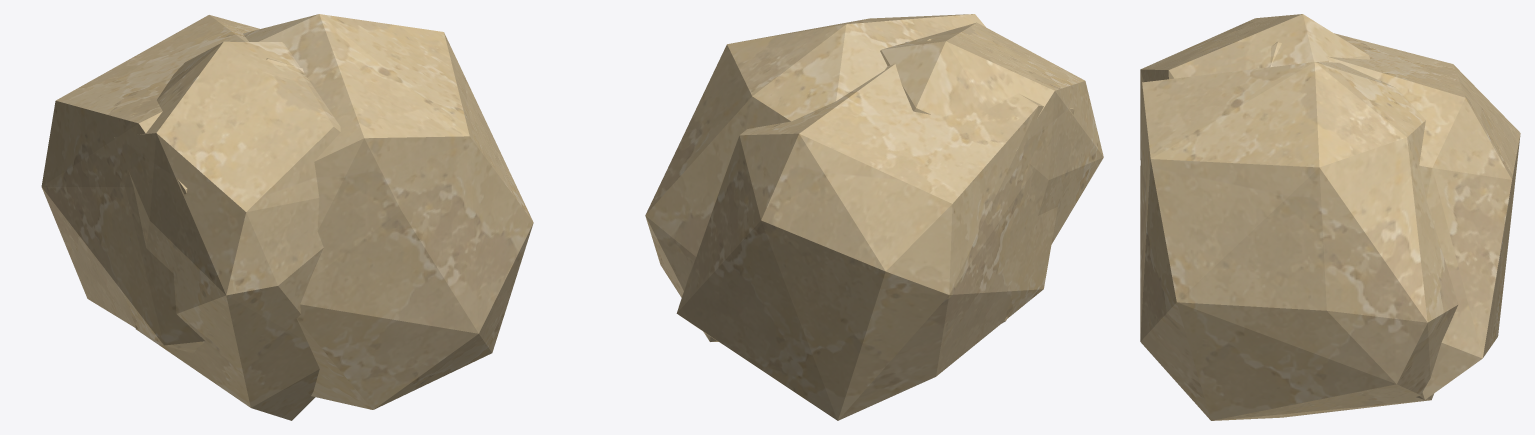
Rendered from ground_bottom_interior_01.glb.
The picture shows the model from 3 angles, left to right: view 1: azimuth 30°, elevation 25°; view 2: azimuth 150°, elevation 25°; view 3: azimuth 270°, elevation 25°; orthographic projection. The views are drawn at different scales.
Visible parts, largest first — view 1: GroundBottomInterior01_Body; view 2: GroundBottomInterior01_Body; view 3: GroundBottomInterior01_Body.
Boxes of the visible parts, bbox=[...] form: GroundBottomInterior01_Body: bbox=[41, 14, 533, 420]; GroundBottomInterior01_Body: bbox=[645, 14, 1103, 420]; GroundBottomInterior01_Body: bbox=[1140, 14, 1520, 420].
Size of the model in its own units: 1 by 1.02 by 1.
Materials: 1 (1 with a texture image).
